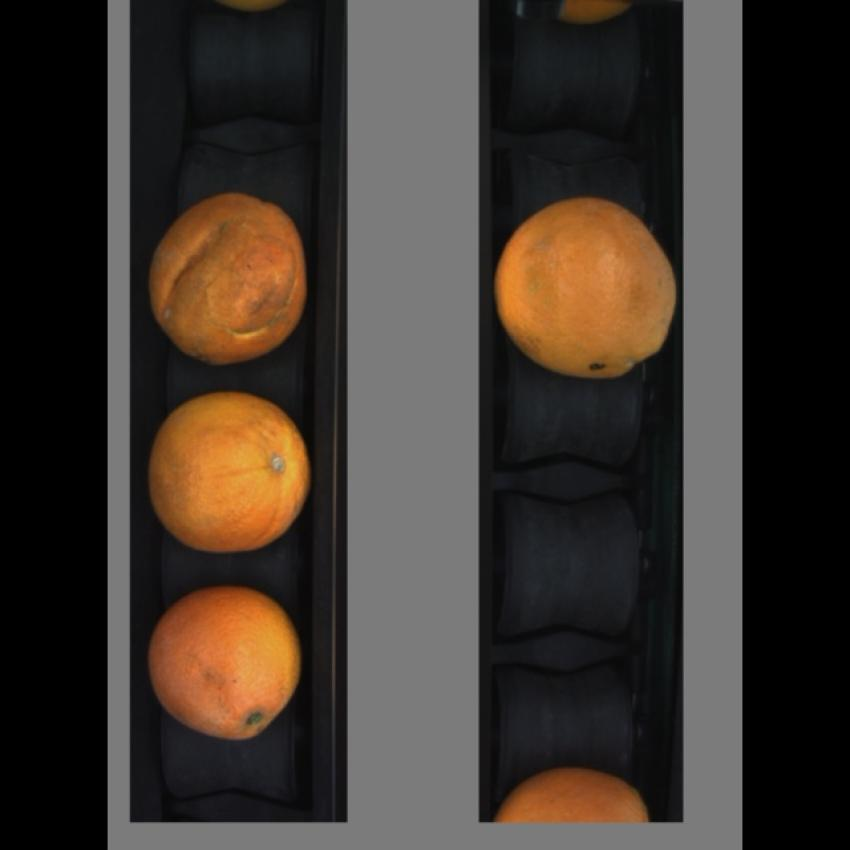Buen estado: (498, 760, 653, 824)
Mal estado: (490, 182, 681, 383), (142, 188, 308, 367), (145, 389, 309, 560), (142, 579, 300, 742)
